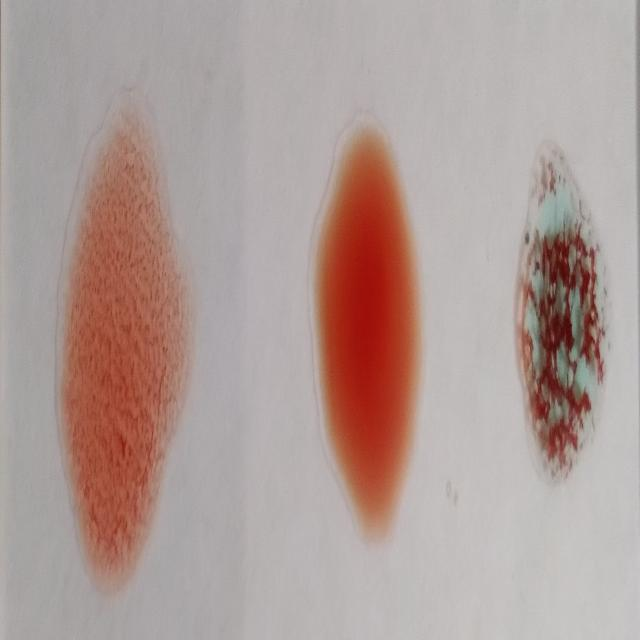A: (517, 138, 607, 479)
D: (60, 108, 189, 588)
